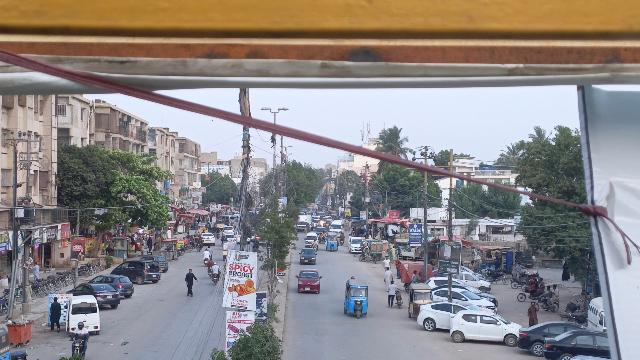Bike: (517, 286, 546, 302), (532, 296, 560, 312), (69, 338, 88, 360), (395, 288, 405, 309), (210, 273, 220, 286), (203, 256, 210, 266)
Car: (450, 310, 521, 344), (543, 329, 617, 360), (518, 320, 579, 354), (431, 286, 497, 314), (416, 302, 474, 331), (65, 283, 121, 309), (111, 260, 161, 284), (87, 274, 134, 298), (295, 268, 322, 295), (299, 247, 316, 265)
Person: (49, 296, 62, 333), (185, 268, 198, 296), (386, 280, 398, 308), (527, 300, 539, 327), (72, 321, 87, 341), (384, 267, 394, 288), (551, 283, 560, 302), (208, 262, 222, 274), (543, 285, 552, 302), (537, 277, 546, 293), (530, 279, 540, 293), (383, 255, 391, 271), (202, 248, 210, 259)
Rickshaw: (344, 280, 370, 319), (408, 283, 432, 320), (326, 232, 339, 251)
Van: (68, 295, 100, 337)
